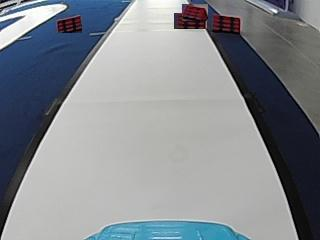bomb: (211, 14, 242, 33)
